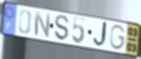0: (18, 9, 33, 35)
5: (71, 15, 88, 45)
G: (109, 24, 127, 52)
J: (92, 21, 110, 49)
N: (34, 10, 51, 39)
S: (54, 14, 70, 42)
